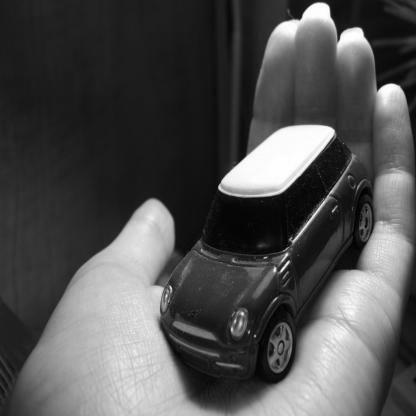car: (162, 110, 387, 384)
